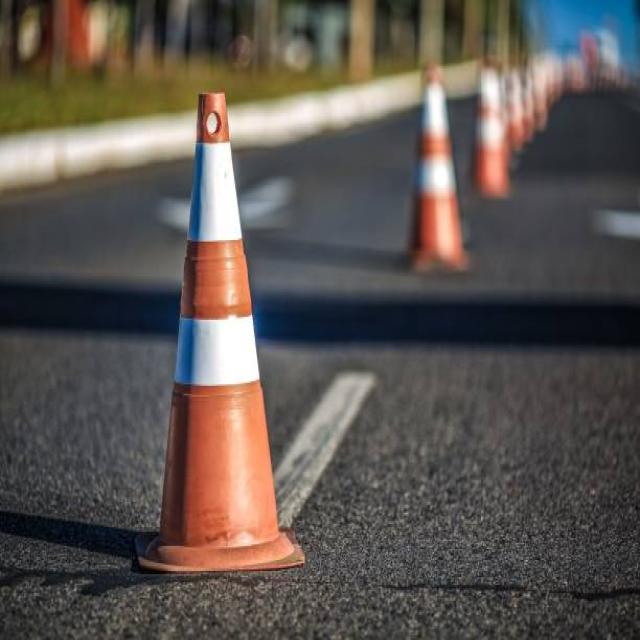Traffic Cone: (125, 36, 318, 606)
